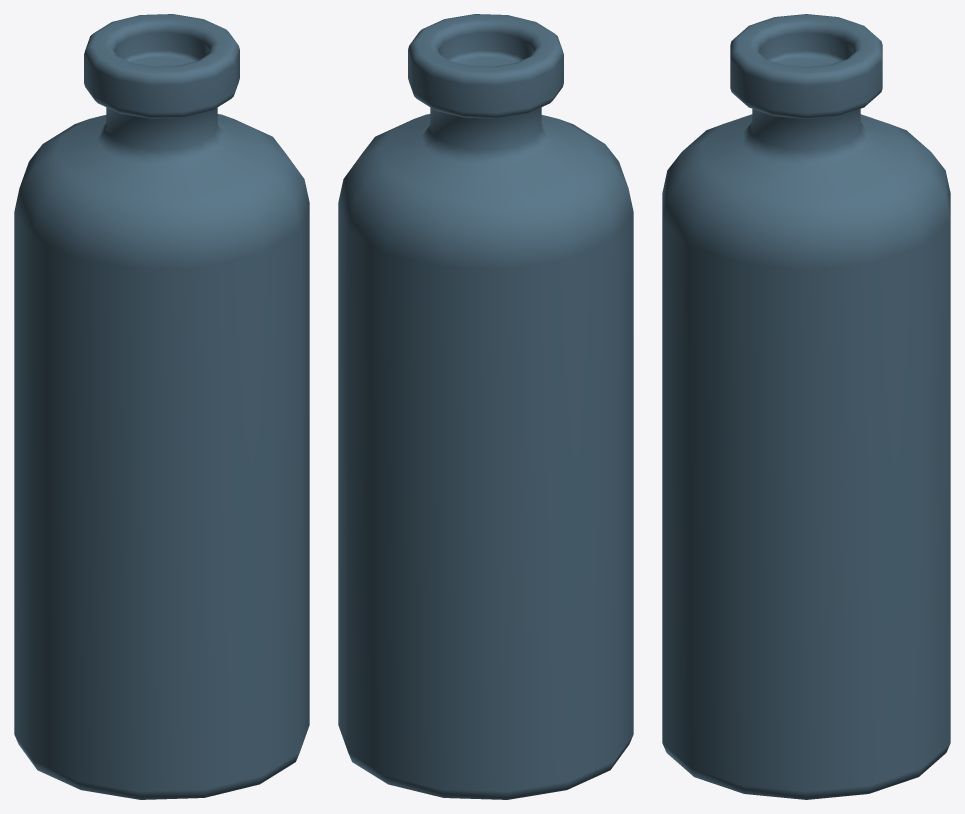
File: Bottle_Clay_02.fbx
3 renders of one model, left to right at view 1: azimuth 30°, elevation 25°; view 2: azimuth 150°, elevation 25°; view 3: azimuth 270°, elevation 25°, orthographic.
Parts seen in each view (by area): view 1: Bottle_Clay_02; view 2: Bottle_Clay_02; view 3: Bottle_Clay_02.
Part boxes in pixels (x1,y1,x2,y2): Bottle_Clay_02: (14,14,309,799); Bottle_Clay_02: (338,14,633,799); Bottle_Clay_02: (662,14,950,799).
Bounding box in the file's own units: 0.1452 × 0.3789 × 0.1416.
